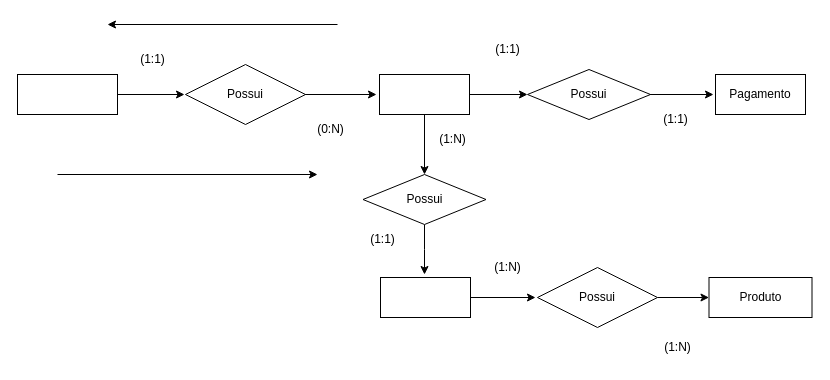
Image size: 830x380. Some labels were removed from this diagram. Here are the shapes that lost their labels. From the top down, the box of each, then its label:
(16, 74, 118, 114): Cliente
(378, 74, 470, 114): Pedido
(380, 276, 470, 318): ItemDoPedido
